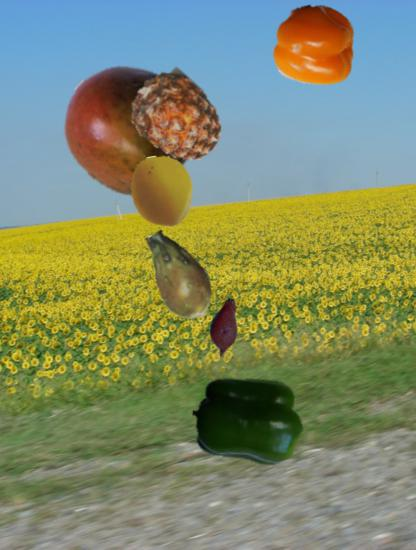Cactus: (129, 227, 226, 324)
Mango: (62, 61, 198, 197)
Peach: (126, 155, 199, 228)
Pepper: (192, 365, 305, 478), (271, 3, 358, 90)
Pineapple: (128, 68, 228, 168)
Salak: (195, 298, 254, 357)
